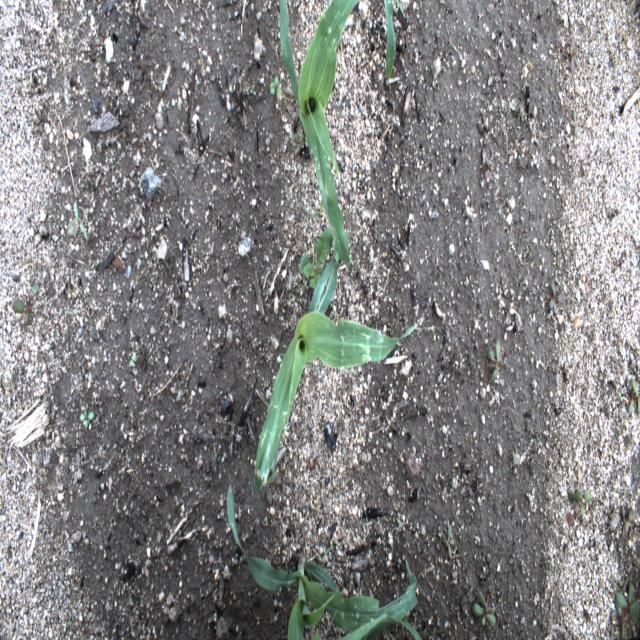crop: (253, 254, 420, 493), (278, 0, 407, 263), (226, 486, 424, 638)
weed: (296, 228, 331, 294), (12, 282, 42, 327), (614, 585, 640, 633), (66, 202, 91, 245), (473, 584, 497, 627), (566, 486, 592, 518), (486, 344, 504, 384), (546, 282, 565, 317), (625, 374, 639, 418), (623, 504, 636, 549), (567, 36, 582, 72), (566, 108, 581, 141), (444, 526, 457, 562), (268, 76, 283, 105), (86, 246, 100, 272), (552, 437, 568, 456), (80, 408, 94, 428), (292, 130, 305, 151), (129, 351, 138, 374), (607, 614, 616, 634), (218, 449, 227, 467), (615, 390, 623, 408), (396, 517, 404, 533)
